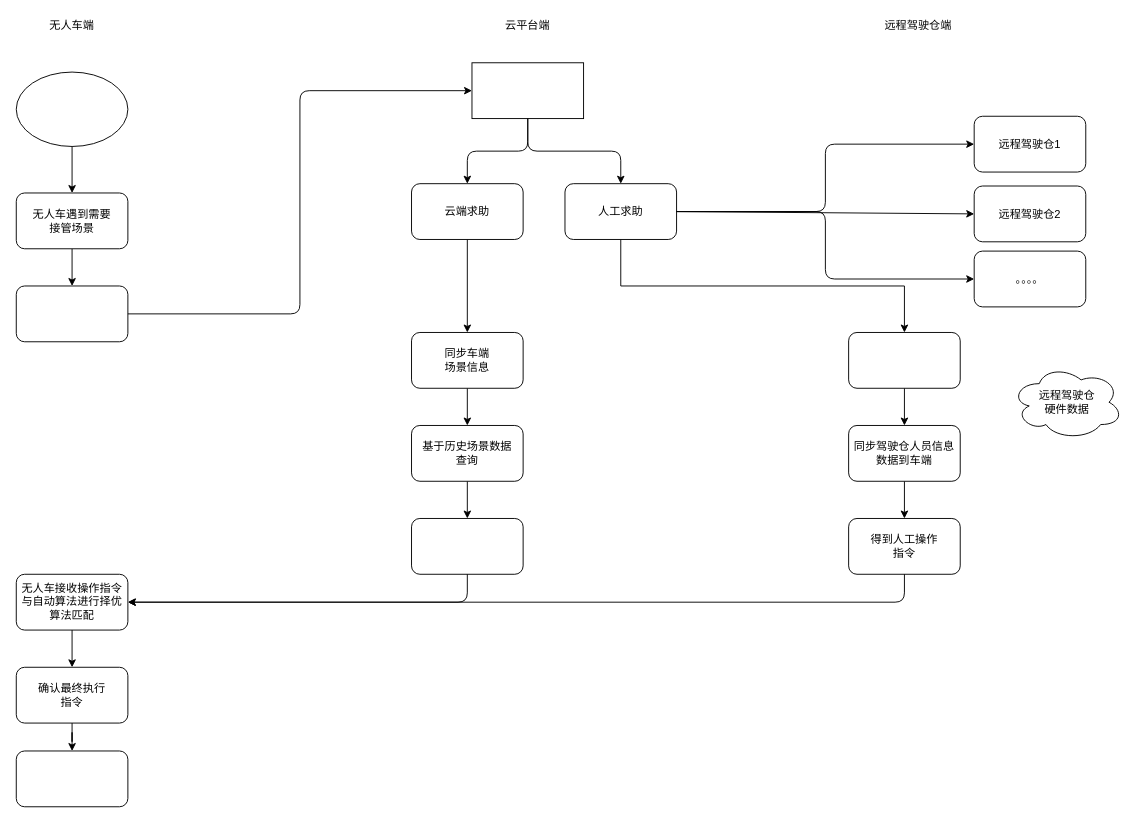
The diagram is 1139 pixels wide and 823 high, and some of its shapes have lost their labels. Here are the shapes that lost their labels. From the top down, the centre of each, then its label:
the point at 71,108: 开始
the point at 527,90: 远程驾驶云平台
the point at 71,313: 发起需要接管 任务申请
the point at 904,360: 建立远程驾驶仓 与无人车连接
the point at 467,546: 云端指定
the point at 71,778: 完成接管操作
